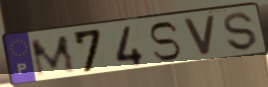4: (115, 24, 147, 68)
7: (71, 28, 105, 75)
M: (28, 33, 79, 79)
S: (222, 11, 260, 53), (147, 20, 183, 63)
V: (181, 15, 218, 58)
